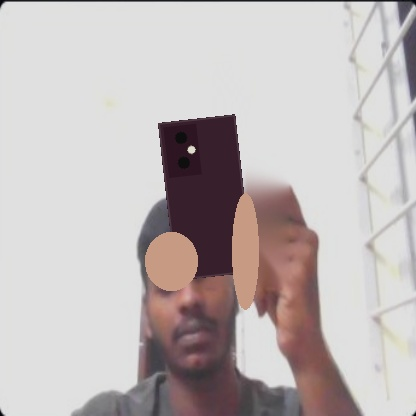cell_phone: (158, 114, 253, 280)
